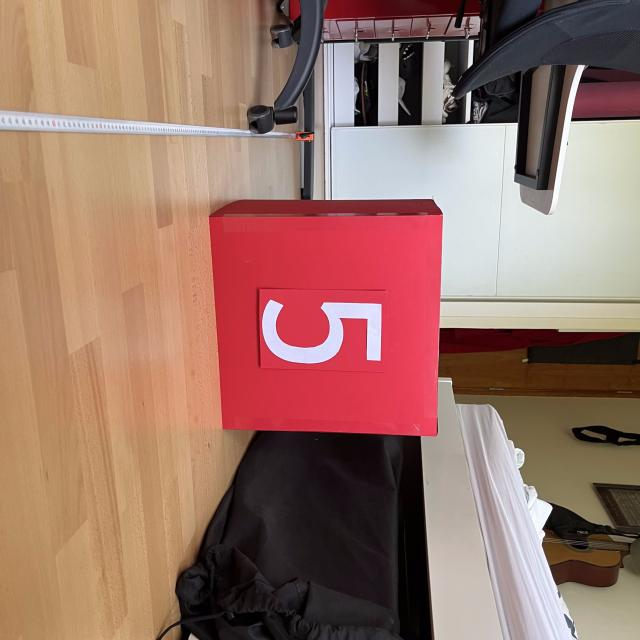box: (204, 194, 446, 438)
